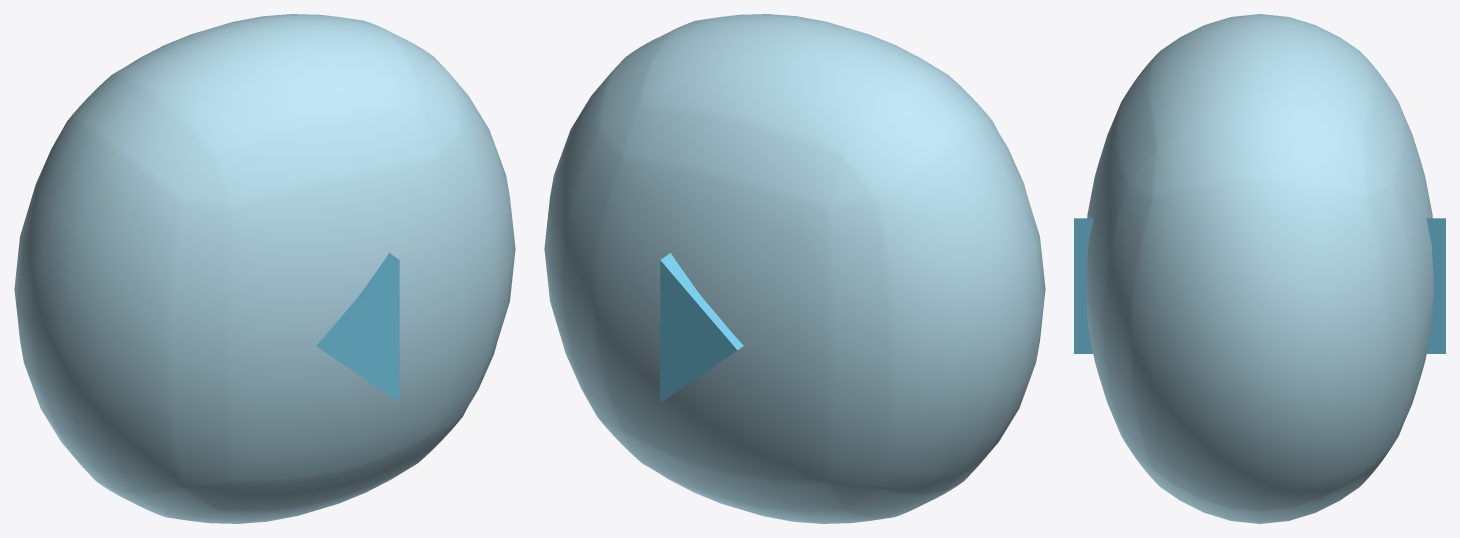
The model's file is play_button_animation_frame16.fbx.
The picture shows the model from 3 angles, left to right: view 1: azimuth 30°, elevation 25°; view 2: azimuth 150°, elevation 25°; view 3: azimuth 270°, elevation 25°; orthographic projection. The views are drawn at different scales.
Parts seen in each view (by area): view 1: Button, Triangle; view 2: Button, Triangle; view 3: Button, Triangle.
Boxes of the visible parts, x1,y1,x2,y2 form: Button: [14, 14, 515, 523]; Triangle: [316, 253, 399, 402]; Button: [544, 14, 1045, 523]; Triangle: [660, 253, 743, 402]; Button: [1085, 14, 1434, 523]; Triangle: [1074, 218, 1445, 353].
Bounding box in the file's own units: 335 × 327 × 245.
